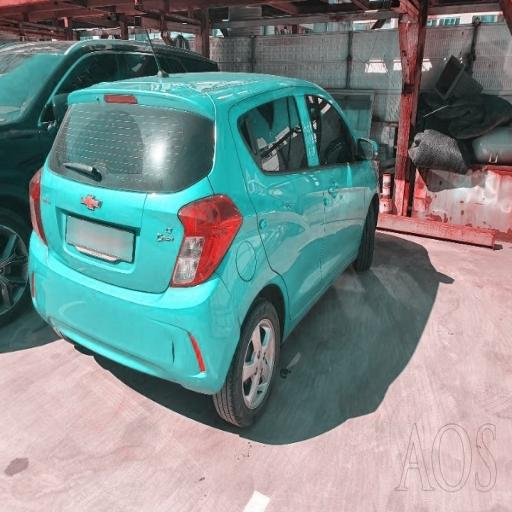scratch: (51, 208, 95, 347)
